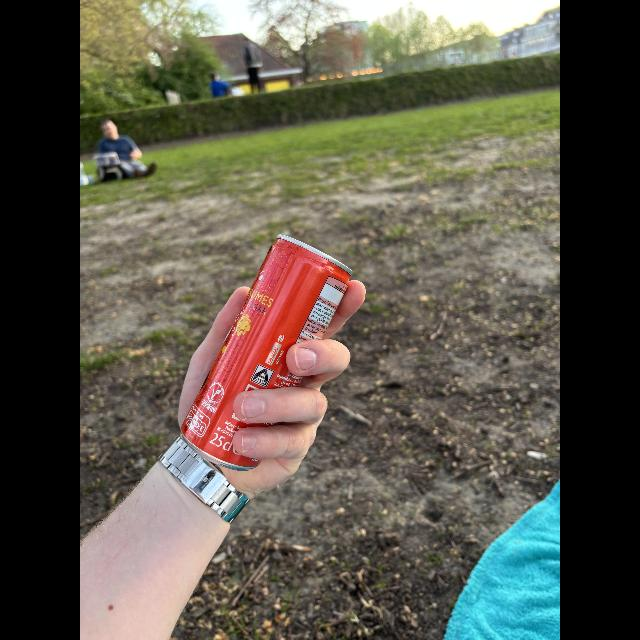Metal: (174, 238, 362, 477)
